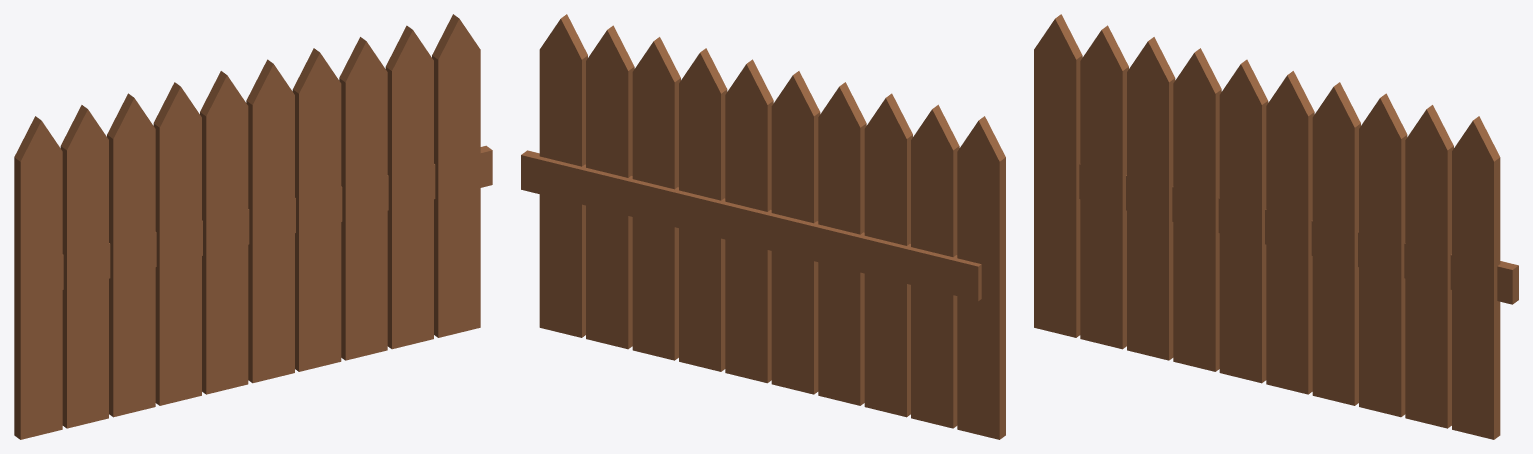
Rendered from fence_right_2.fbx.
The picture shows the model from 3 angles, left to right: view 1: azimuth 30°, elevation 25°; view 2: azimuth 150°, elevation 25°; view 3: azimuth 330°, elevation 25°; orthographic projection.
Visible parts, largest first — view 1: Cube.033; view 2: Cube.033; view 3: Cube.033.
Part boxes in pixels (box(x1,y1,x2,y2)): Cube.033: box(14, 14, 492, 439); Cube.033: box(521, 14, 1005, 439); Cube.033: box(1034, 14, 1518, 439).
Bounding box in the file's own units: 158 × 99.94 × 5.5.
